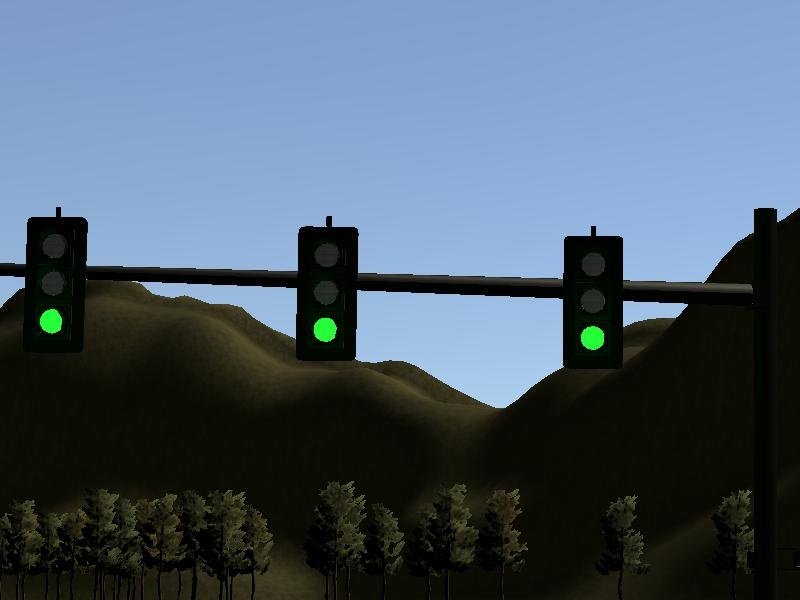GREEN: (296, 228, 357, 360), (26, 217, 87, 349), (563, 237, 623, 364)
